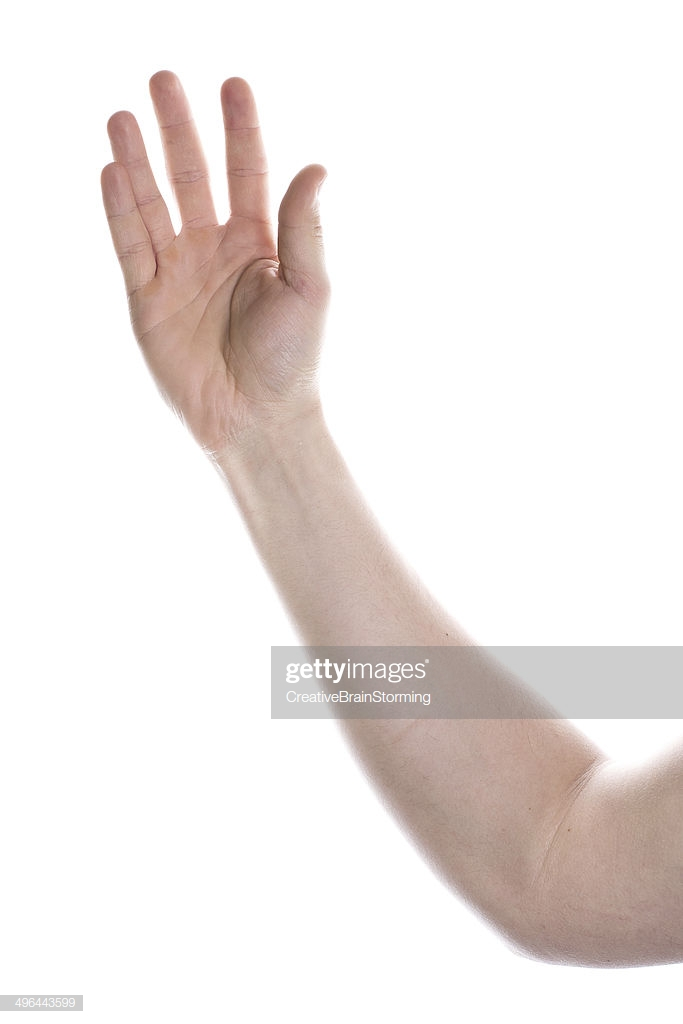open_hand: (54, 45, 404, 441)
